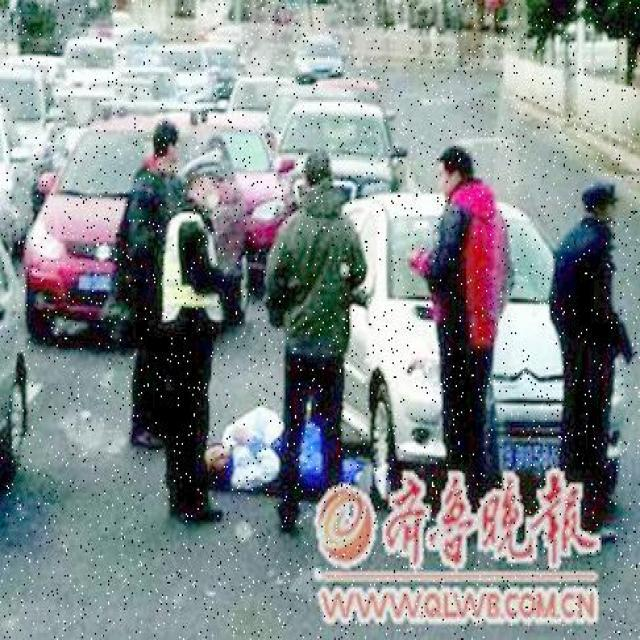fall: (202, 400, 386, 500)
